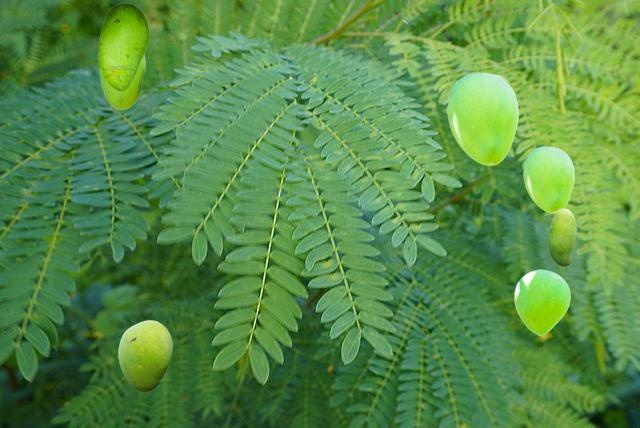green_mango: (447, 72, 517, 164), (97, 3, 148, 90), (118, 320, 171, 390), (514, 269, 569, 335), (523, 146, 573, 212), (99, 57, 144, 108), (548, 208, 575, 265), (499, 75, 510, 84)
